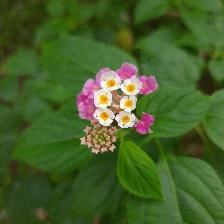common lanthana: (75, 61, 162, 140)
